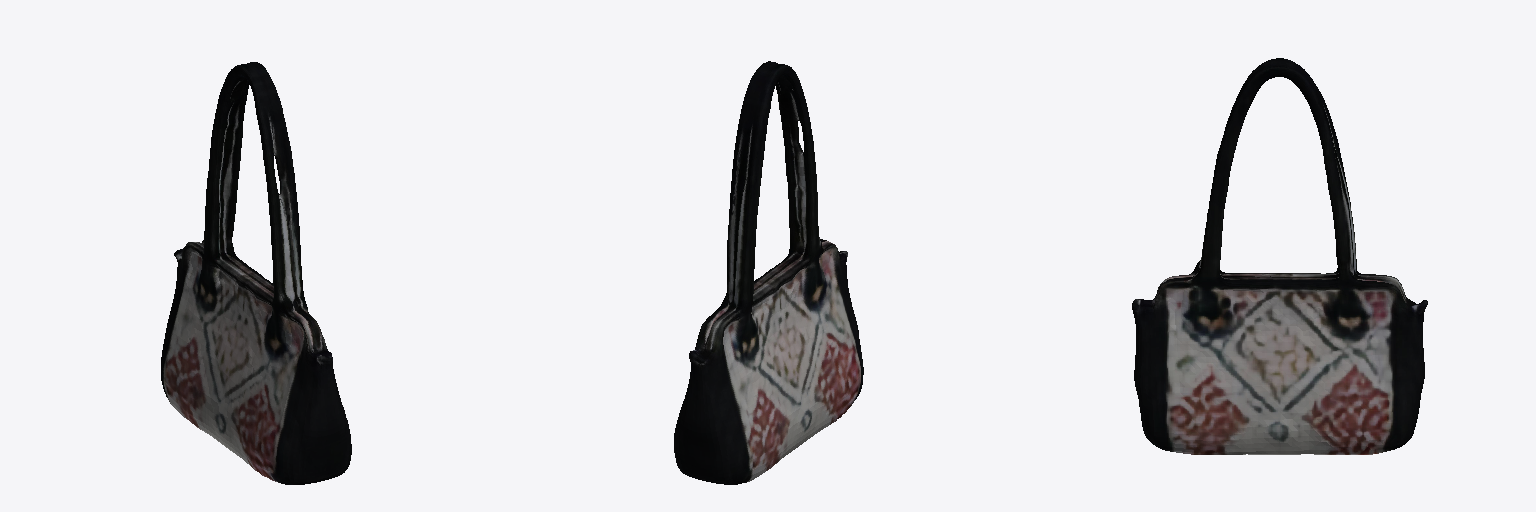
The picture shows the model from 3 angles: view 1: azimuth 30°, elevation 25°; view 2: azimuth 150°, elevation 25°; view 3: azimuth 270°, elevation 25°; orthographic projection.
Parts seen in each view (by area): view 1: mesh; view 2: mesh; view 3: mesh.
Part boxes in pixels (bbox=[...]): mesh: bbox=[161, 62, 351, 484]; mesh: bbox=[674, 61, 863, 484]; mesh: bbox=[1132, 58, 1427, 454].
Size of the model in its own units: 0.2067 by 0.9953 by 0.6938.
1 materials, 1 textured.